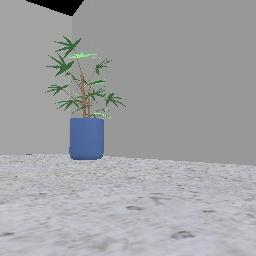planta: (45, 36, 125, 159)
